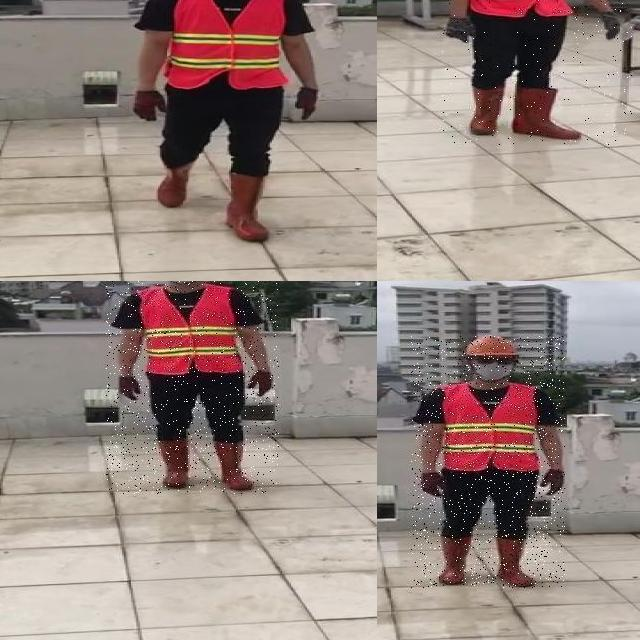BOOTS: (511, 85, 581, 141), (226, 169, 272, 242), (215, 438, 254, 490), (465, 84, 503, 137), (498, 536, 536, 587), (154, 438, 192, 488), (156, 159, 194, 208), (437, 534, 473, 585)
GLASS: (467, 356, 519, 366)
GLOVE: (132, 90, 167, 122), (445, 17, 478, 43), (540, 468, 568, 498), (296, 87, 320, 121), (248, 370, 275, 398), (118, 375, 144, 403), (598, 11, 621, 41), (421, 473, 447, 499)
HELMET: (463, 333, 519, 356)
VEST: (165, 0, 286, 89), (142, 286, 242, 375), (445, 385, 539, 472)
